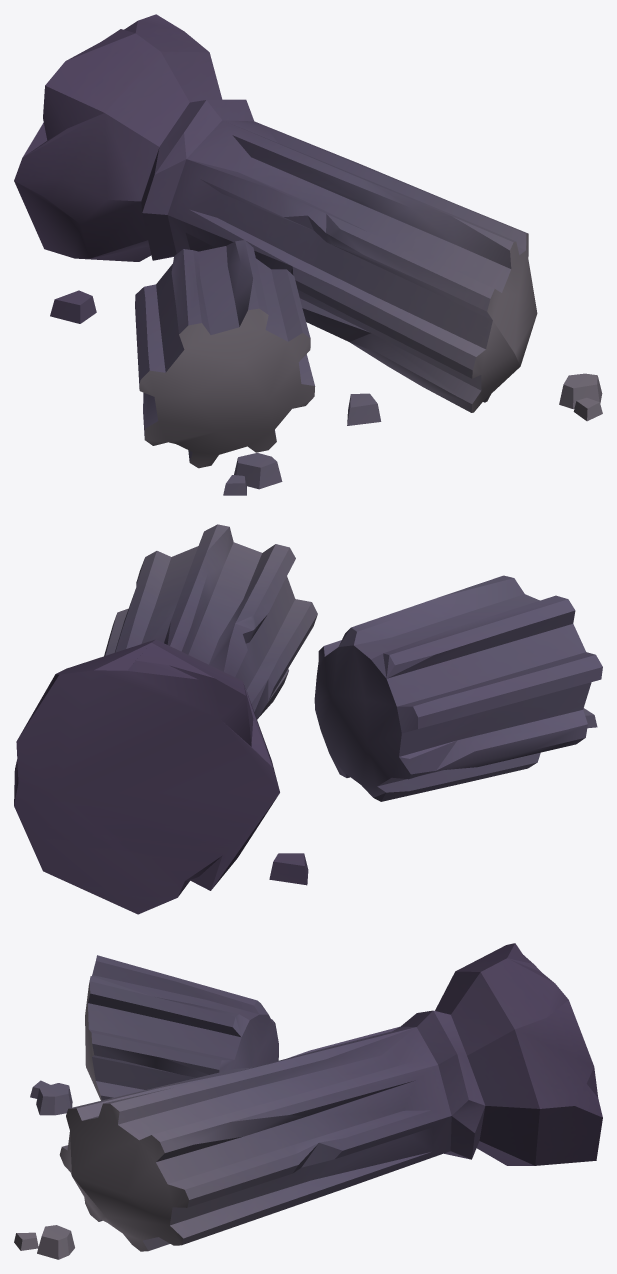
The model's file is pillar_broken_pile.001.fbx.
The picture shows the model from 3 angles, top to bottom: view 1: azimuth 30°, elevation 25°; view 2: azimuth 150°, elevation 25°; view 3: azimuth 270°, elevation 25°; orthographic projection. The views are drawn at different scales.
Visible parts, largest first — view 1: pillar_broken_pile.001_LOD0; view 2: pillar_broken_pile.001_LOD0; view 3: pillar_broken_pile.001_LOD0.
Boxes of the visible parts, <box> form: pillar_broken_pile.001_LOD0: <box>14,14,602,495</box>; pillar_broken_pile.001_LOD0: <box>14,524,602,914</box>; pillar_broken_pile.001_LOD0: <box>14,943,602,1259</box>.
Size of what is drawn, in the model's own units: 88.45 by 49.71 by 116.
